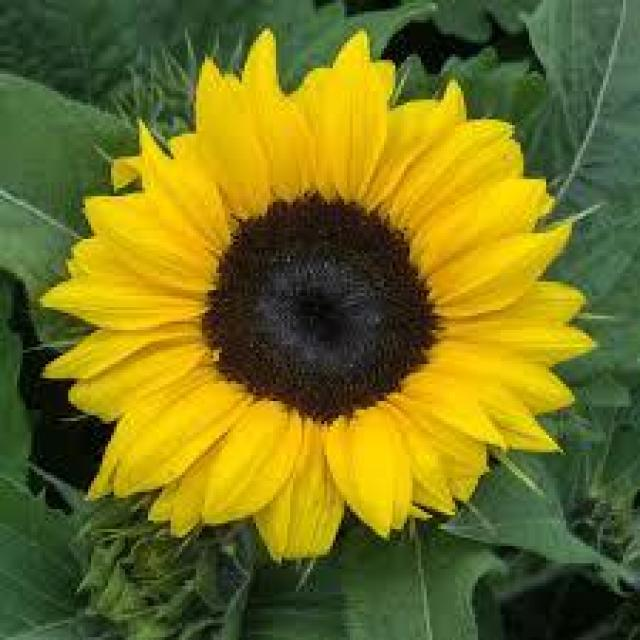organic waste: (52, 30, 584, 519)
